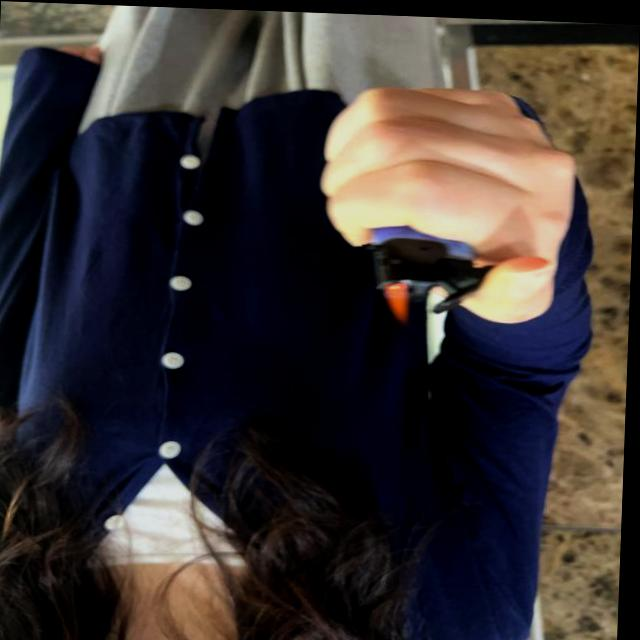Fire: (380, 279, 418, 324)
